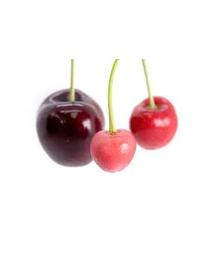cherry: (37, 88, 105, 167), (128, 94, 179, 151), (91, 128, 137, 173)
